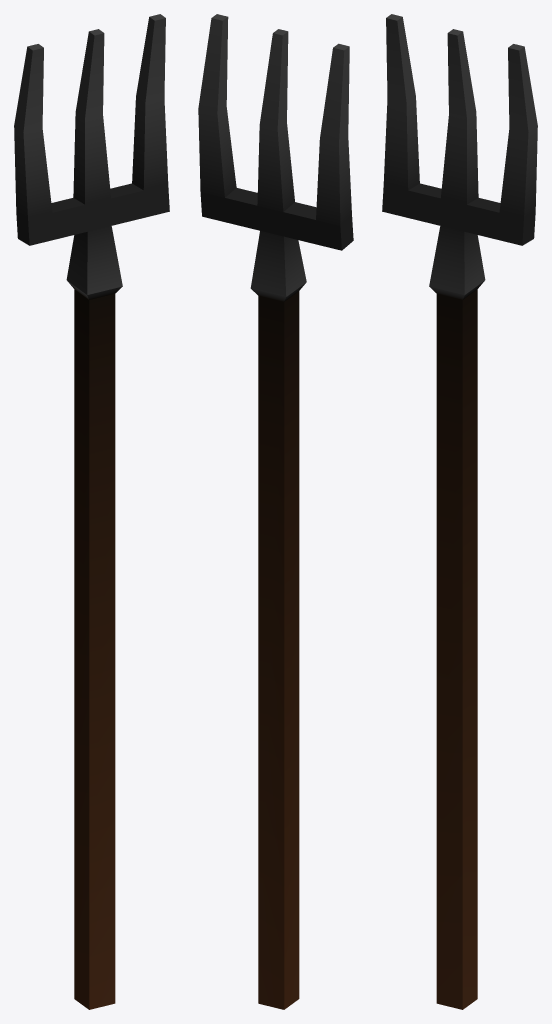
The model's file is Fork.fbx.
3 views of the same model, side by side, from view 1: azimuth 30°, elevation 25°; view 2: azimuth 150°, elevation 25°; view 3: azimuth 330°, elevation 25° (orthographic).
Parts seen in each view (by area): view 1: Fork; view 2: Fork; view 3: Fork.
Part boxes in pixels (<box>): Fork: <box>14,14,169,1009</box>; Fork: <box>198,14,353,1009</box>; Fork: <box>382,14,537,1009</box>.
Bounding box in the file's own units: 0.2491 × 1.64 × 0.063.
